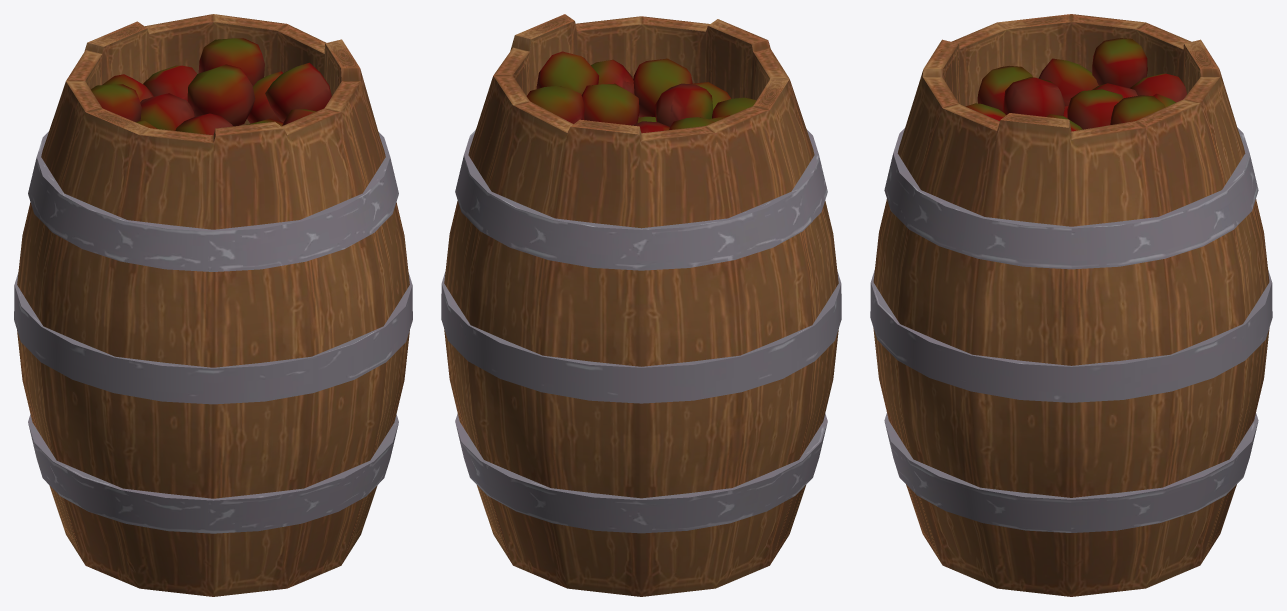
Rendered from Barrel_Apples.glb.
3 renders of one model, left to right at view 1: azimuth 30°, elevation 25°; view 2: azimuth 150°, elevation 25°; view 3: azimuth 270°, elevation 25°, orthographic.
Visible parts, largest first — view 1: Barrel_Apples; view 2: Barrel_Apples; view 3: Barrel_Apples.
Part boxes in pixels (<box>): Barrel_Apples: <box>14,14,412,596</box>; Barrel_Apples: <box>441,14,841,596</box>; Barrel_Apples: <box>870,14,1272,596</box>.
Bounding box in the file's own units: 0.698 × 0.898 × 0.698.
Materials: 3 (3 with a texture image).
